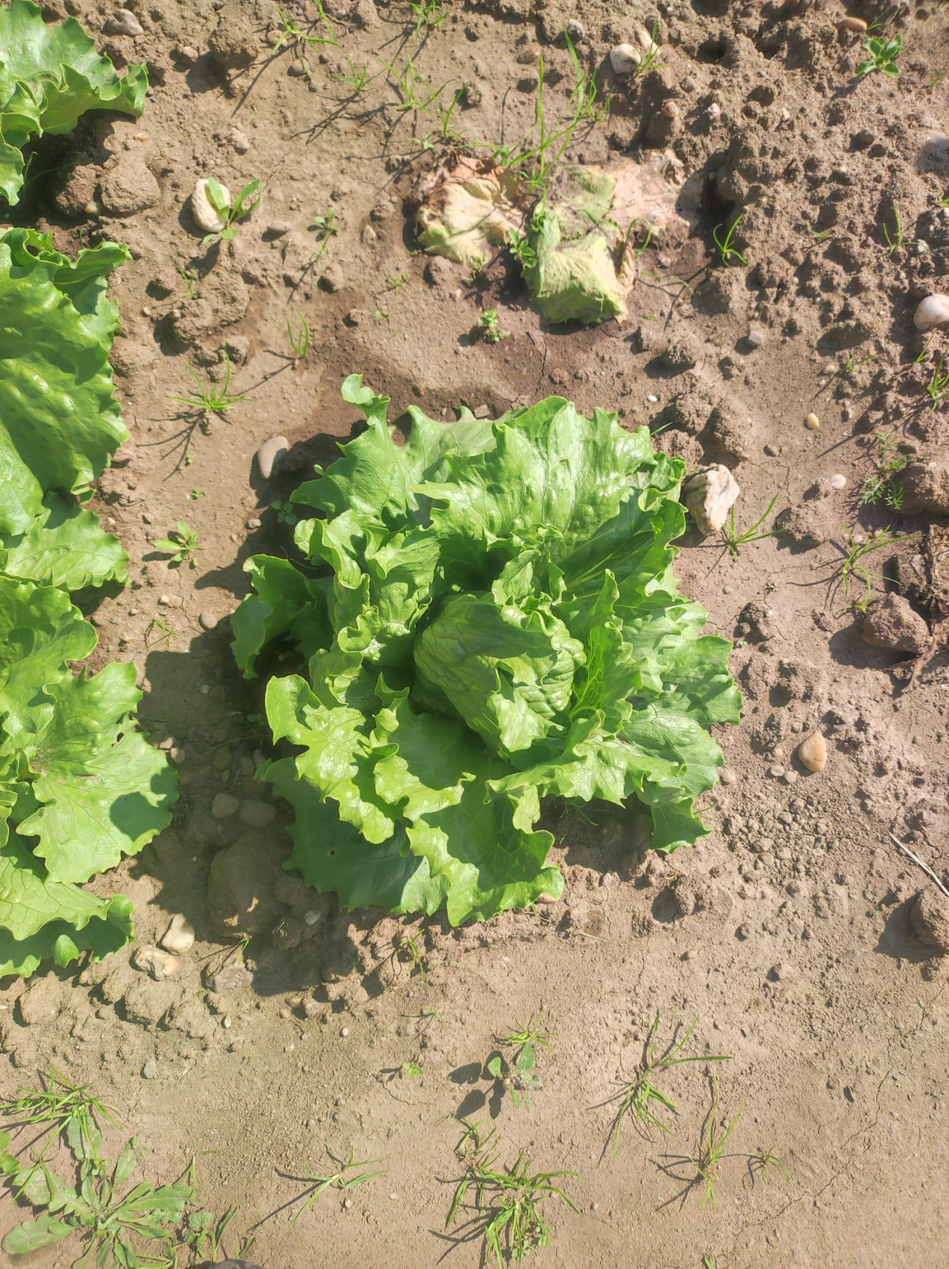healthy: (231, 374, 741, 926), (0, 578, 177, 978), (0, 226, 128, 592), (0, 0, 147, 204)
